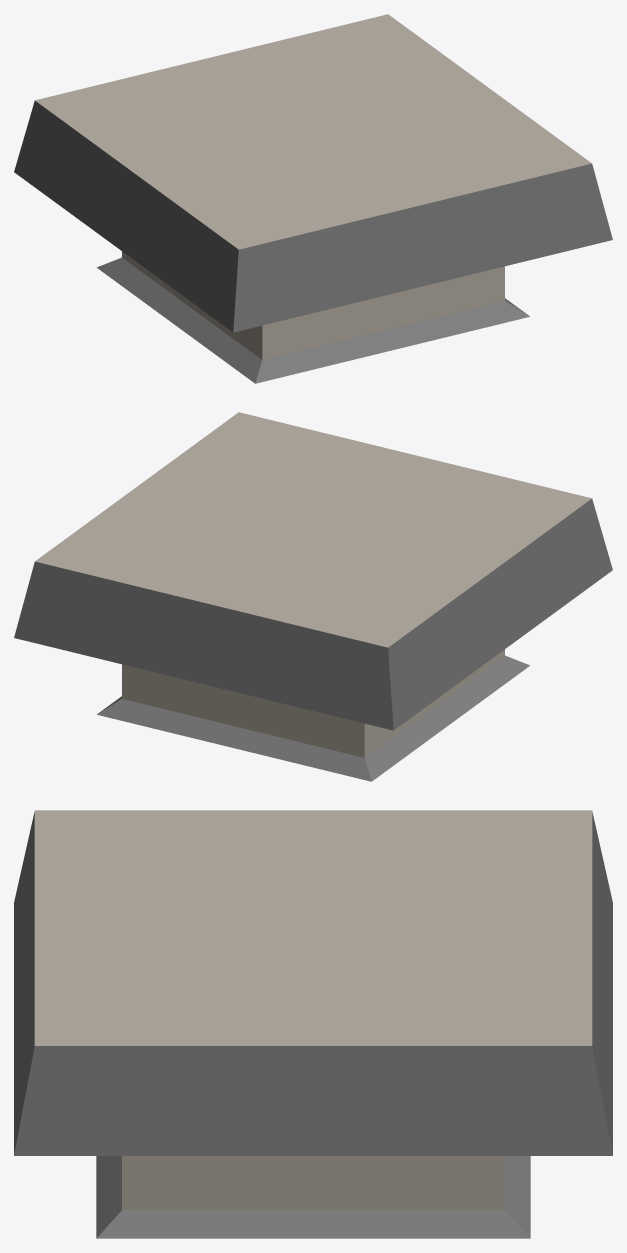
File: SM_Conditioner_01.fbx
The picture shows the model from 3 angles, top to bottom: view 1: azimuth 30°, elevation 25°; view 2: azimuth 150°, elevation 25°; view 3: azimuth 270°, elevation 25°; orthographic projection. The views are drawn at different scales.
Parts seen in each view (by area): view 1: SM_Conditioner_01; view 2: SM_Conditioner_01; view 3: SM_Conditioner_01.
Boxes of the visible parts, x1,y1,x2,y2 form: SM_Conditioner_01: (14, 14, 612, 383); SM_Conditioner_01: (14, 412, 612, 781); SM_Conditioner_01: (14, 810, 612, 1238).
Size of the model in its own units: 118 by 47.44 by 118.
1 material, 1 textured.
